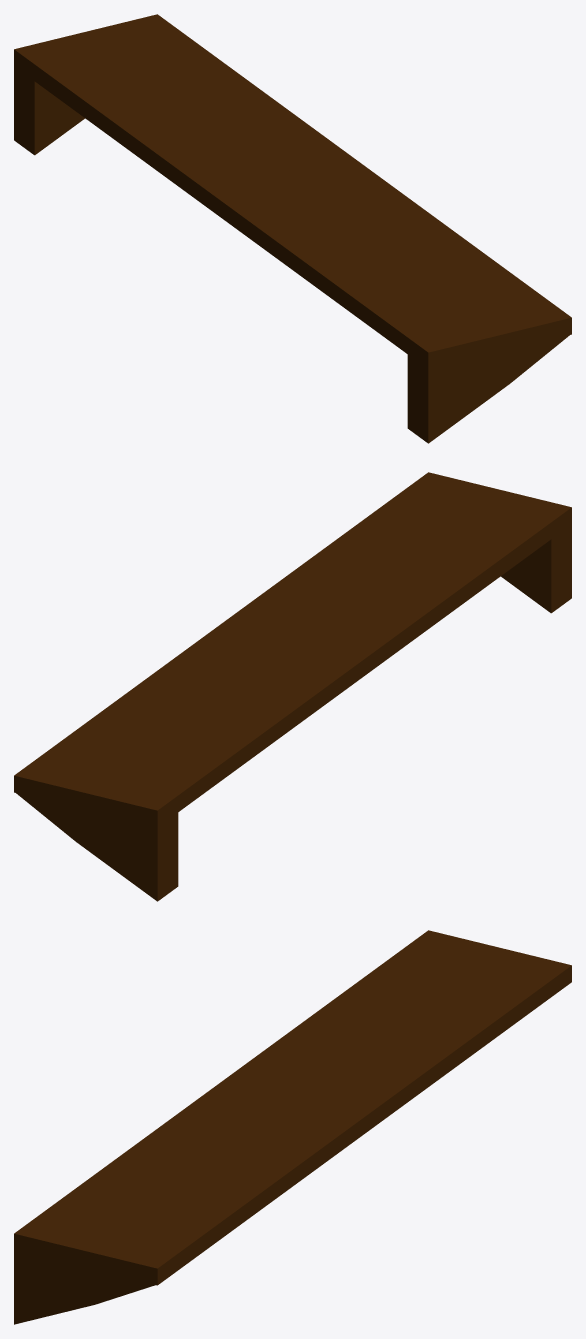
The model's file is ExportedBlenderFBXFile.fbx.
The picture shows the model from 3 angles, top to bottom: view 1: azimuth 30°, elevation 25°; view 2: azimuth 150°, elevation 25°; view 3: azimuth 330°, elevation 25°; orthographic projection.
Parts seen in each view (by area): view 1: Cube, Cube.001, Cube.002; view 2: Cube, Cube.002, Cube.001; view 3: Cube, Cube.001.
Part boxes in pixels (x1,y1,x2,y2): Cube: (14, 14, 571, 369); Cube.001: (407, 333, 571, 443); Cube.002: (14, 66, 84, 155); Cube: (14, 472, 571, 827); Cube.002: (16, 792, 178, 901); Cube.001: (501, 523, 571, 613); Cube: (14, 930, 571, 1285); Cube.001: (14, 1250, 155, 1324).
Size of the model in its own units: 2 by 1.21 by 10.
